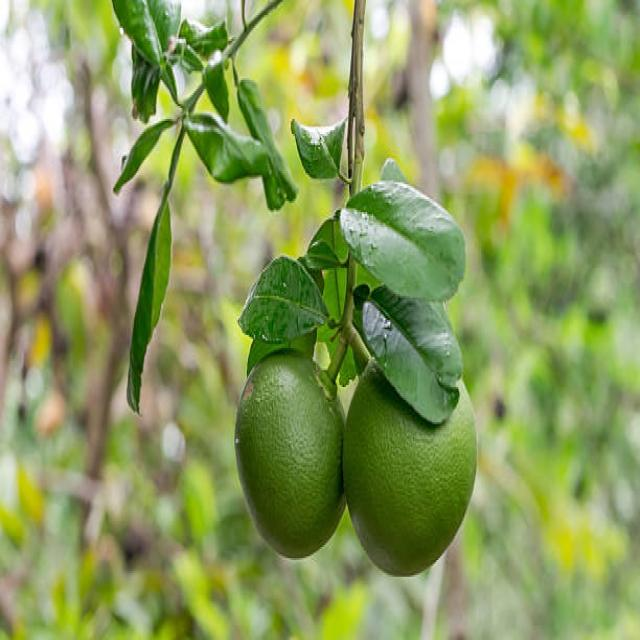Unripe: (340, 346, 478, 579), (234, 350, 349, 558)
